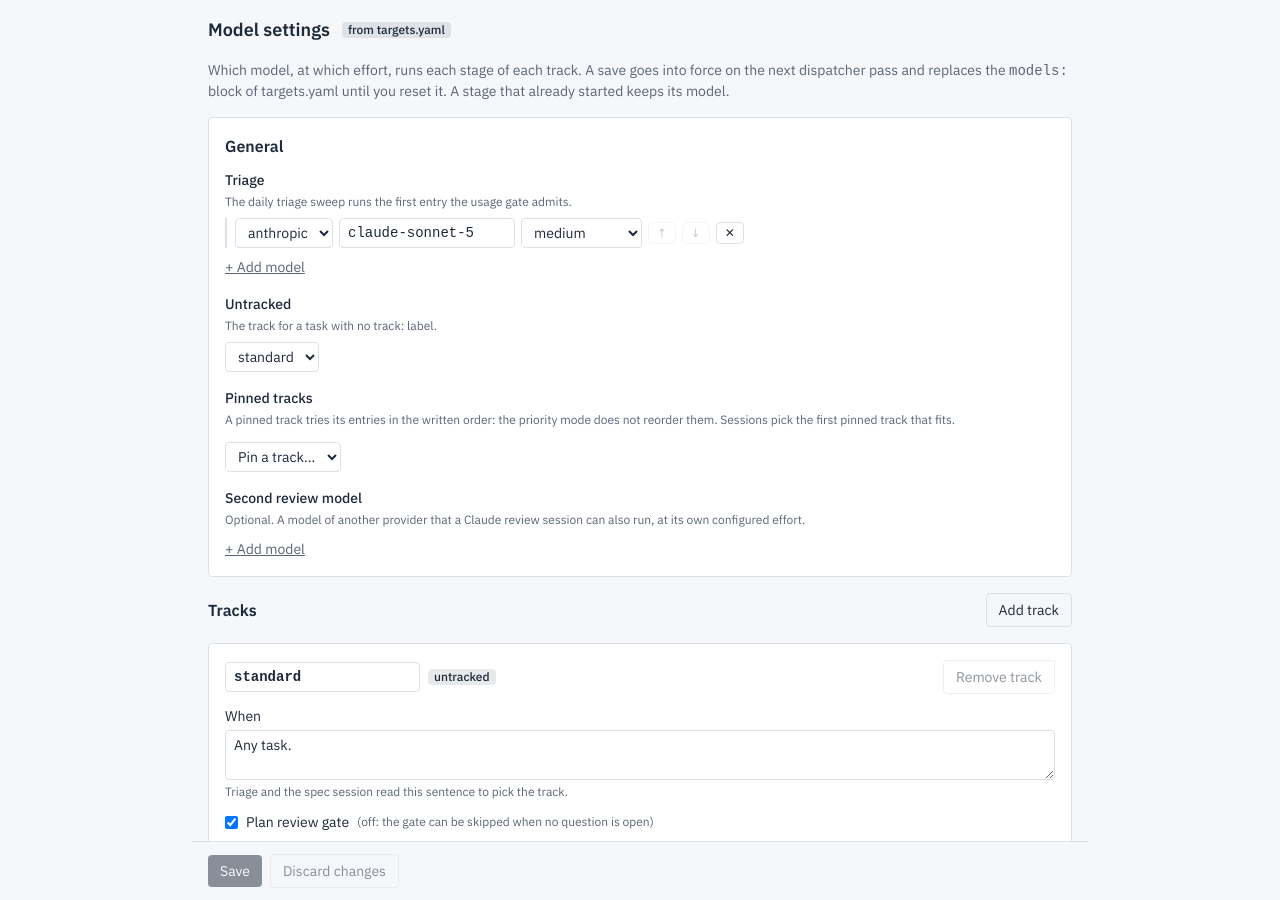
Test: shows why the server refused a block
Type " More." into the text box named "When standard".
click(640, 755); type(" More.")  # box [225,730,1055,780]
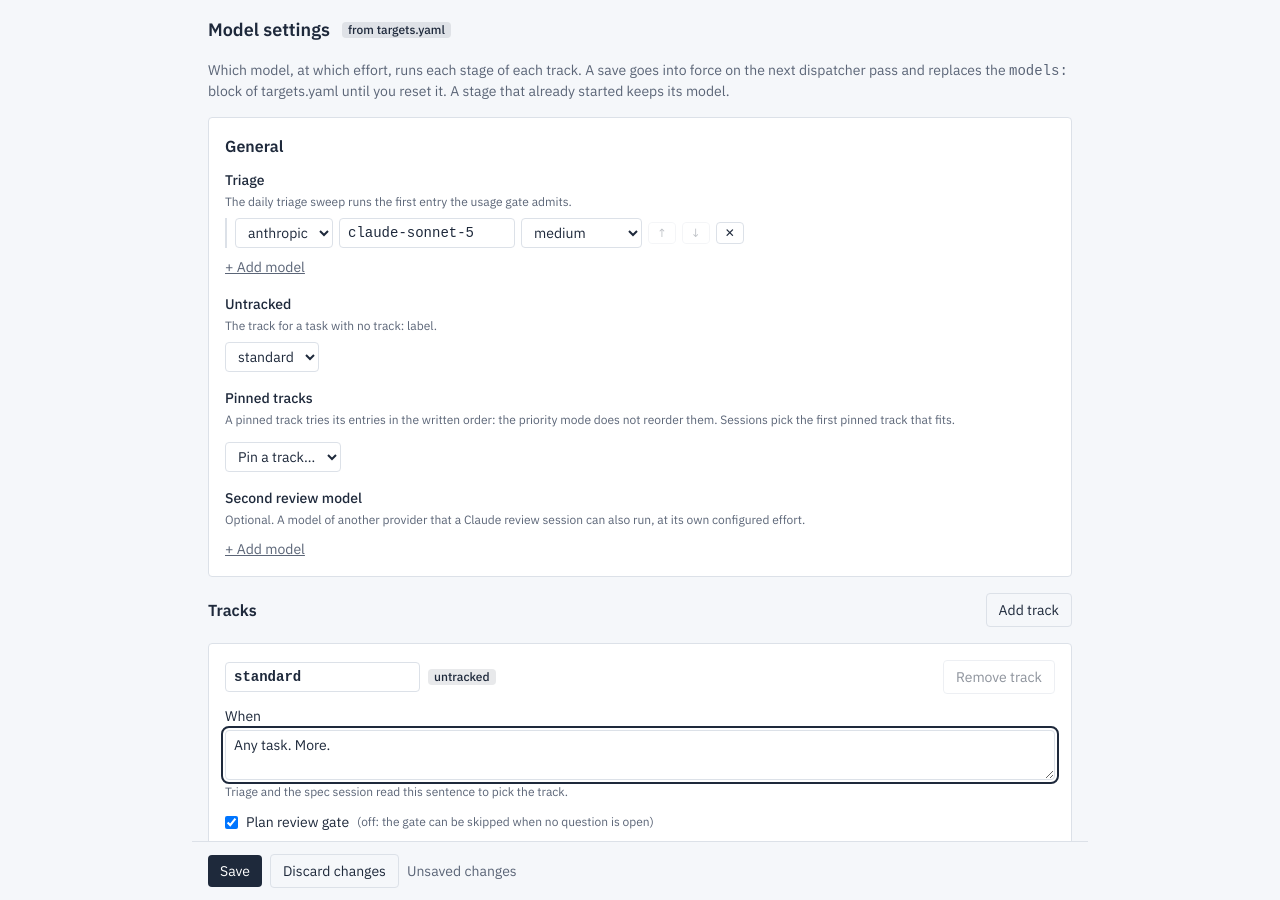
Click the button "Save".
click(235, 871)  # box [208,855,262,887]
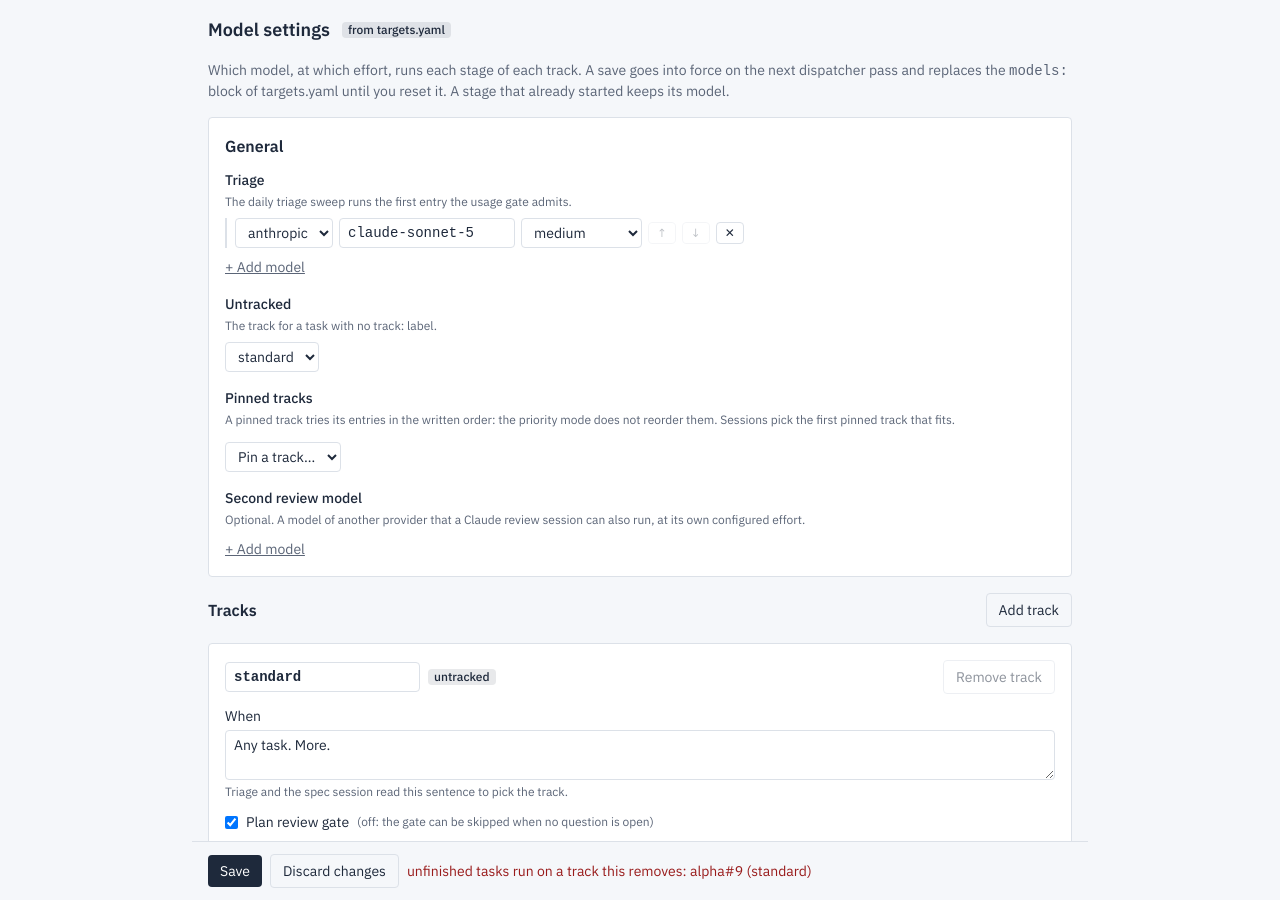
Now the message shows "alpha#9 (standard)", box [407,862,812,880]
